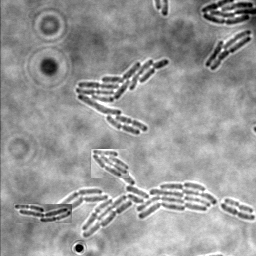Dividing: (219, 204, 255, 222), (223, 199, 253, 215)
Microcolony: (57, 167, 216, 238), (75, 59, 169, 136), (204, 30, 251, 72), (200, 1, 255, 26), (14, 204, 72, 223), (91, 149, 129, 178)
